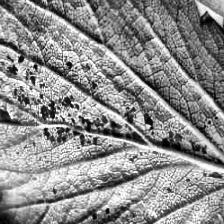Angular Leafspot: (0, 46, 224, 224)
